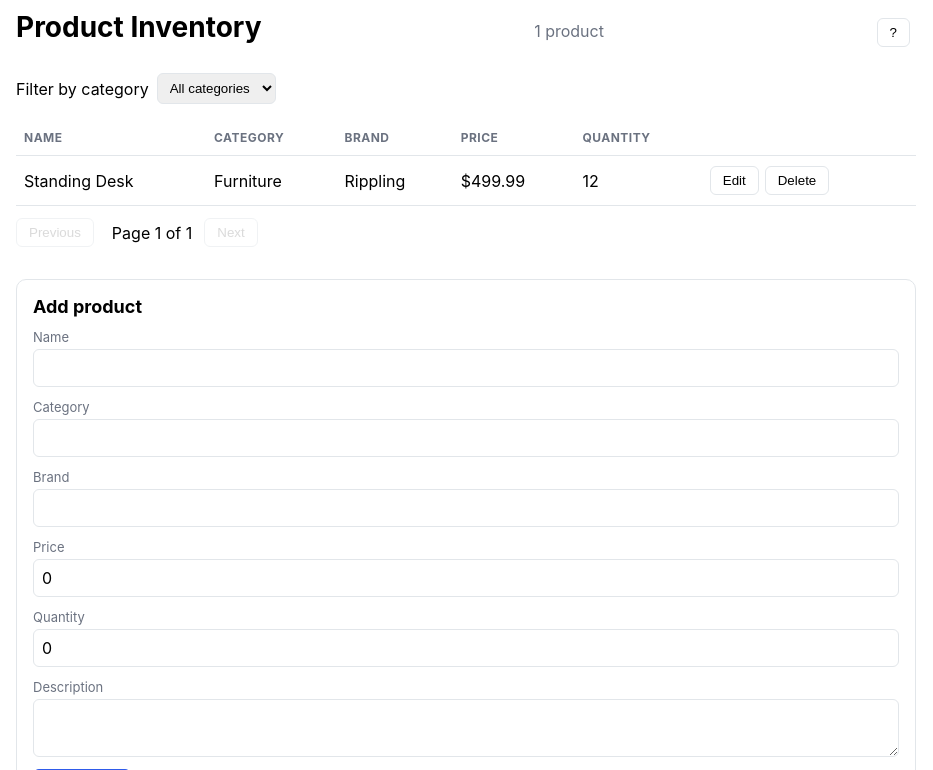
Scenario: ProductsPage keyboard shortcuts › Escape cancels editing and clears the form
Expected: the text "Standing Desk" is shown, [16,156,206,206]
Click the button "Edit": (734, 180) [710,166,759,195]
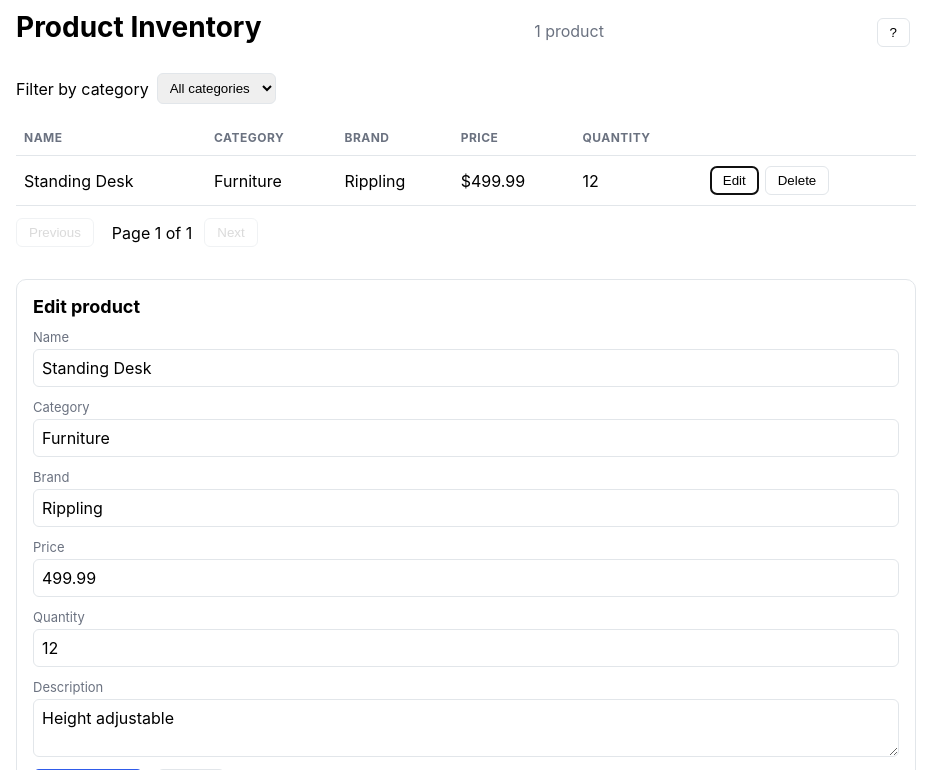
Result: the heading "Edit product" is shown at [33,296,140,317]
Result: the field labelled "Name" holds "Standing Desk"
Press Escape in the field labelled "Name", box [33,349,899,387]
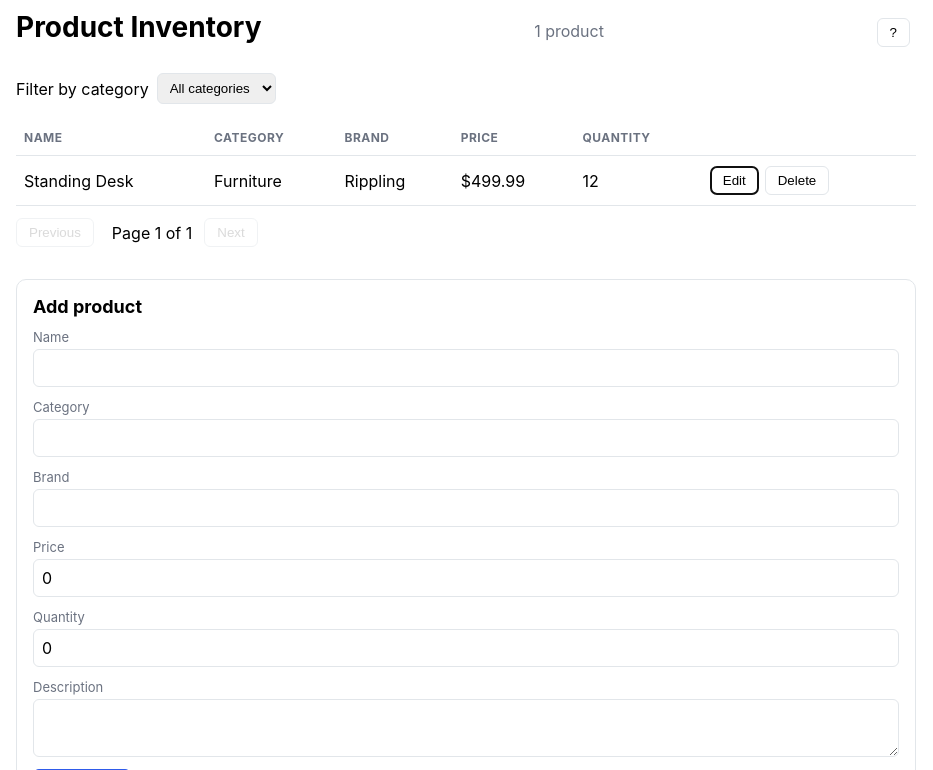
Result: the heading "Add product" is shown at [33,296,142,317]
Result: the field labelled "Name" is empty at [33,349,899,387]
